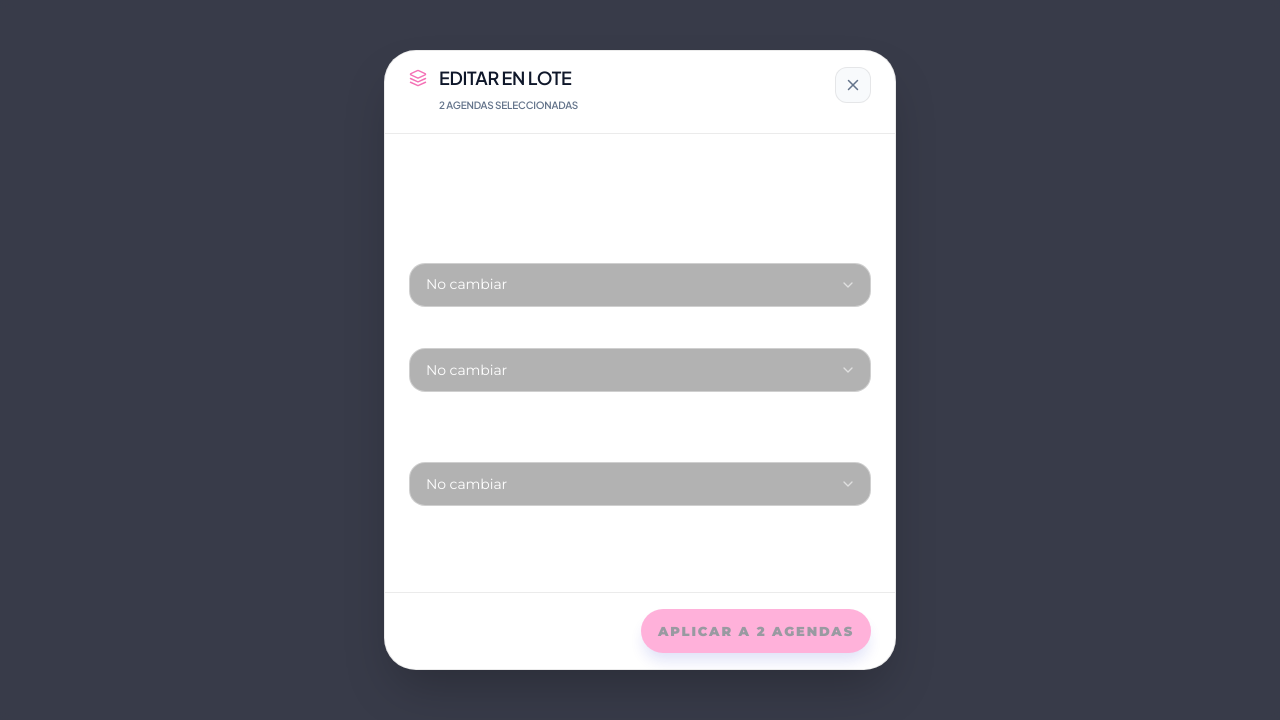
Test: Panel «Editar en lote» › si el pedido entero rebota, el motivo queda adentro del panel, que sigue abierto
Select "Marlon · 1 llamada hoy" in the dropdown labelled "Closer" at (640, 285), box top-left (426, 264), bottom-right (854, 306)
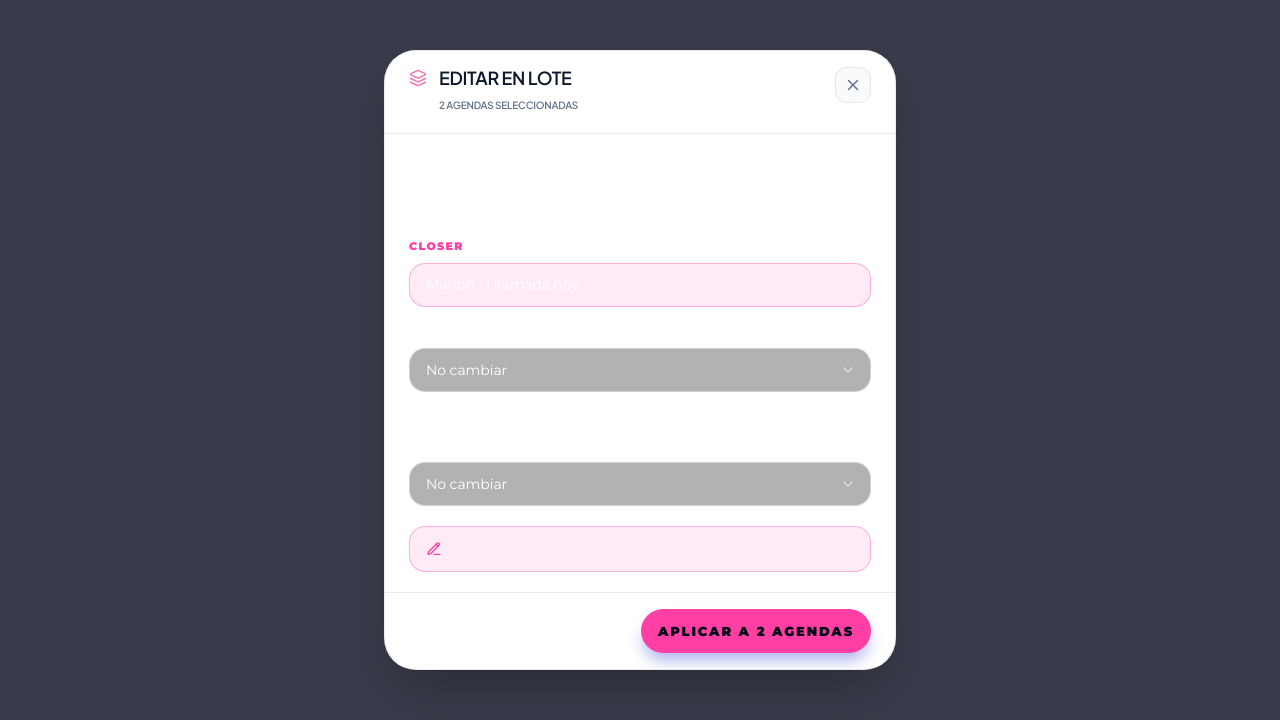
Click the button "Aplicar a 2 agendas" at (756, 631), box top-left (641, 609), bottom-right (871, 653)
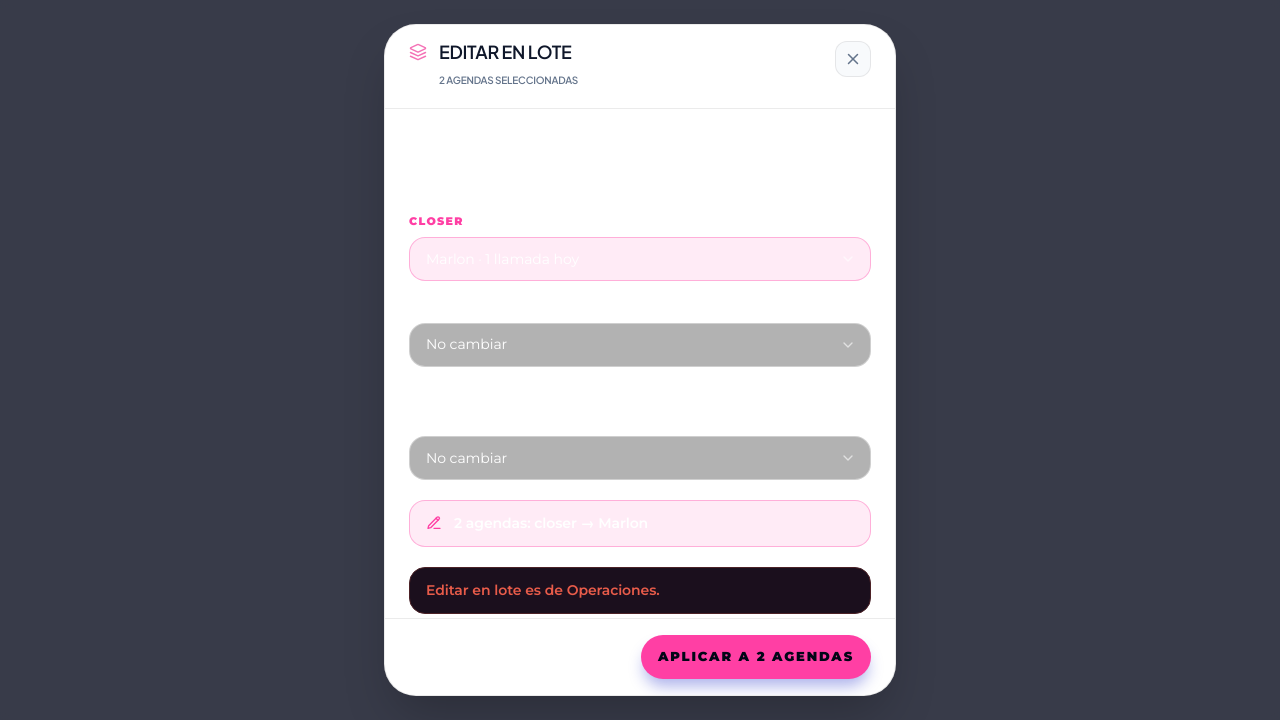
expect the button "Aplicar a 2 agendas" is enabled: met, box top-left (641, 635), bottom-right (871, 679)
expect the message "Editar en lote es de Operaciones." is shown: met, box top-left (409, 567), bottom-right (871, 614)
